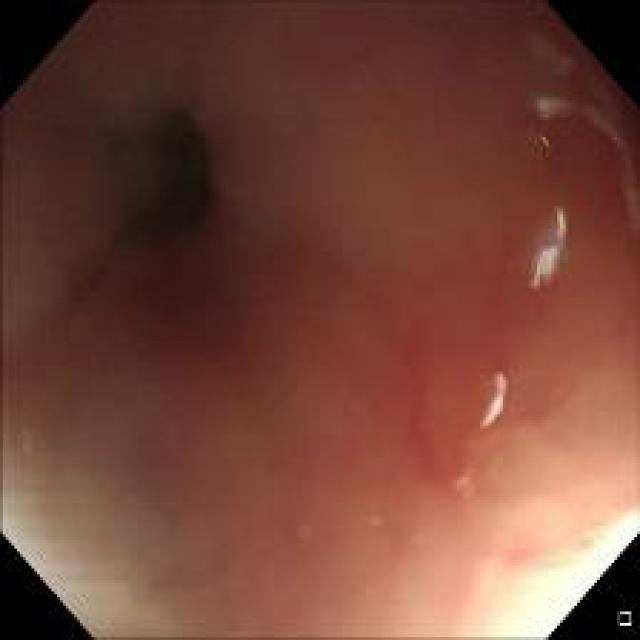blur: (10, 9, 631, 631)
color misalignment: (534, 89, 636, 252), (526, 198, 574, 299), (474, 358, 520, 430)
contrast: (70, 69, 225, 281)
saturation: (464, 501, 634, 634)
